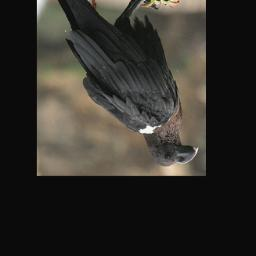Crow: (44, 0, 197, 168)
